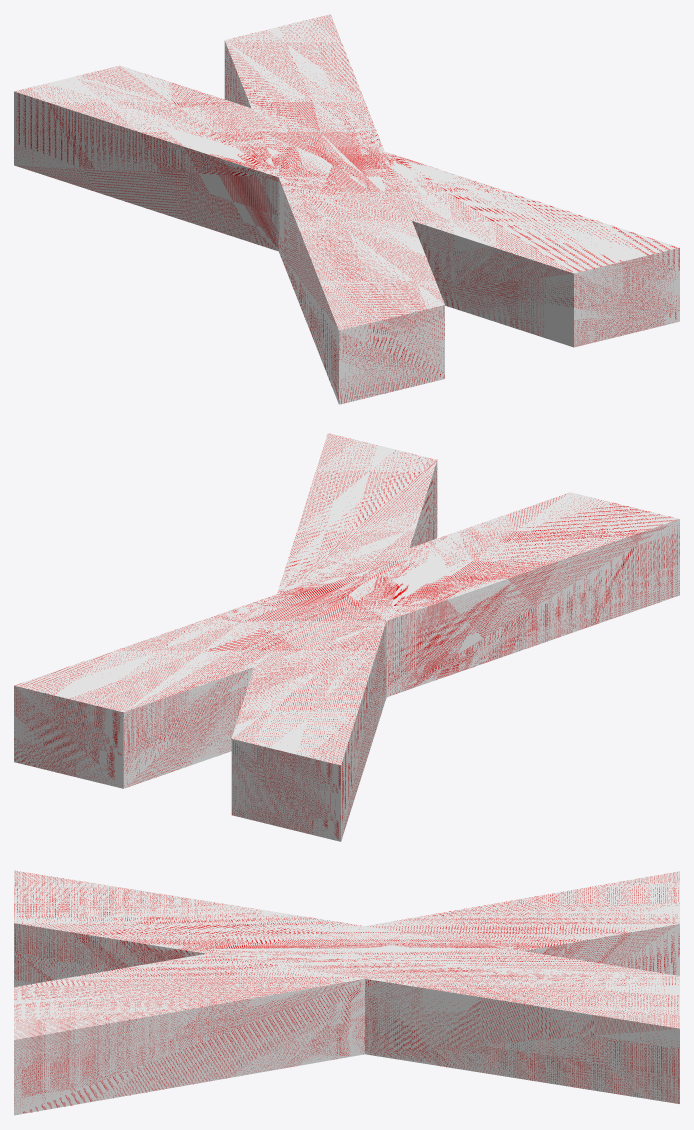
File: Cruz_error.fbx
The picture shows the model from 3 angles, top to bottom: view 1: azimuth 30°, elevation 25°; view 2: azimuth 150°, elevation 25°; view 3: azimuth 270°, elevation 25°; orthographic projection. The views are drawn at different scales.
Visible parts, largest first — view 1: Model; view 2: Model; view 3: Model.
Boxes of the visible parts, x1,y1,x2,y2 form: Model: (14,14,679,404); Model: (14,433,679,841); Model: (14,870,679,1115).
Size of the model in its own units: 0.4822 by 0.1 by 0.8.
